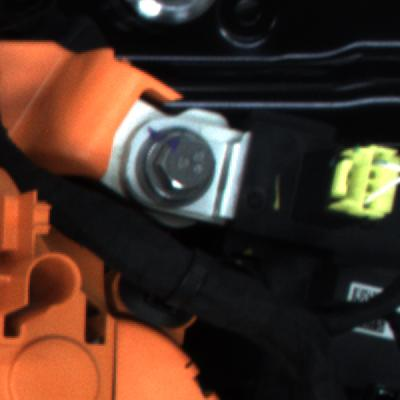nut_b: (129, 120, 222, 212)
